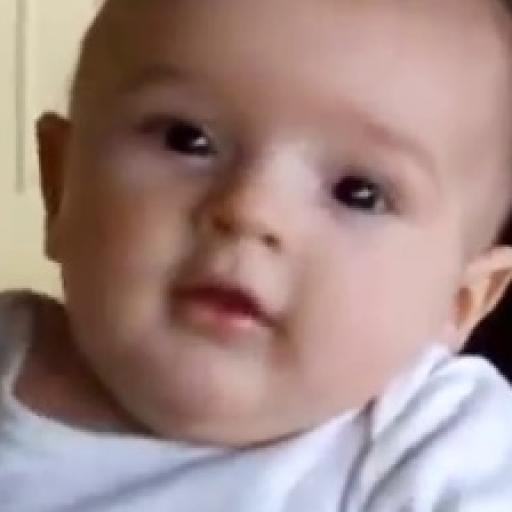Autism: (89, 0, 501, 489)
